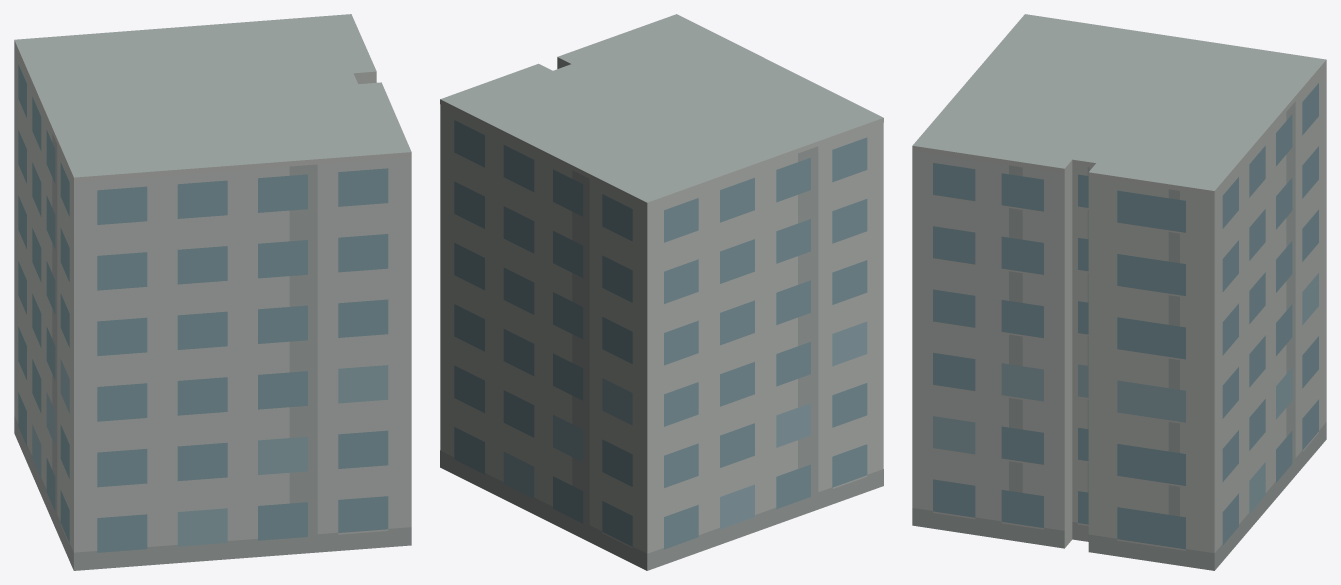
Rendered from survey-upis-32890036.glb.
3 views of the same model, side by side, from view 1: azimuth 30°, elevation 25°; view 2: azimuth 150°, elevation 25°; view 3: azimuth 270°, elevation 25° (orthographic). The views are drawn at different scales.
Parts seen in each view (by area): view 1: survey-upis-32890036.tmp; view 2: survey-upis-32890036.tmp; view 3: survey-upis-32890036.tmp.
Boxes of the visible parts, left/top/right/bottom form: survey-upis-32890036.tmp: left=14, top=14, right=411, bottom=570; survey-upis-32890036.tmp: left=440, top=14, right=883, bottom=570; survey-upis-32890036.tmp: left=912, top=14, right=1326, bottom=570.
Size of the model in its own units: 18.3 by 18.3 by 18.1.
